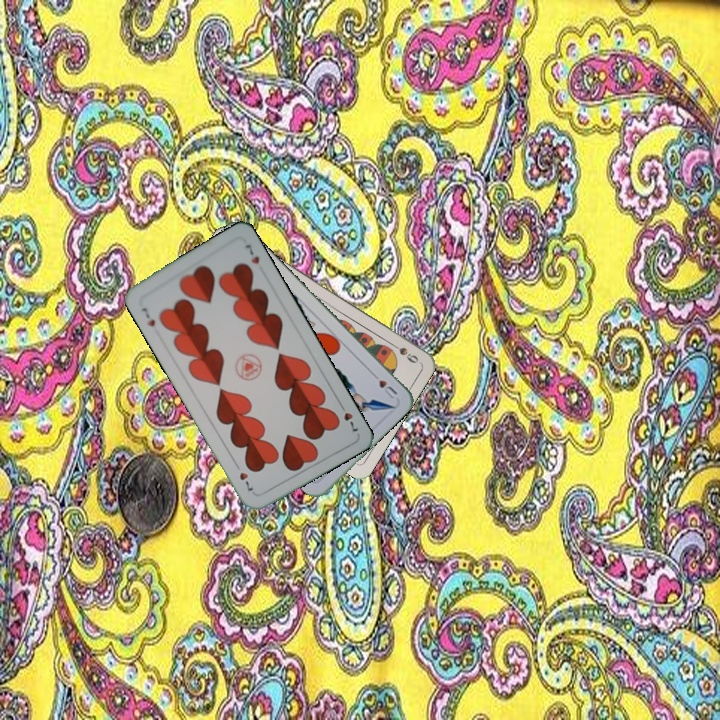H7: (335, 399, 361, 434), (138, 303, 158, 329)
HU: (367, 368, 400, 401)
S9: (385, 338, 421, 366)
